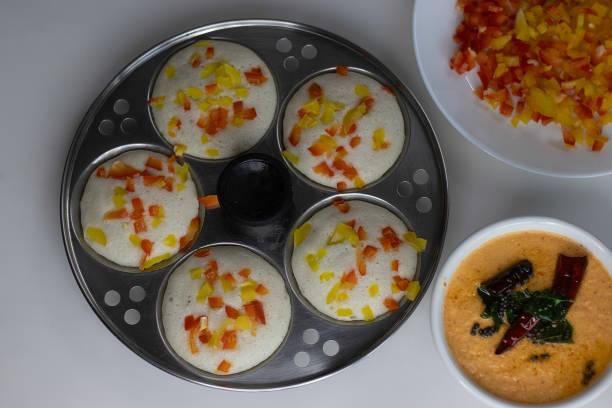idli: (293, 209, 424, 320), (68, 150, 199, 252), (162, 248, 271, 355), (295, 68, 385, 182), (176, 51, 272, 150)
